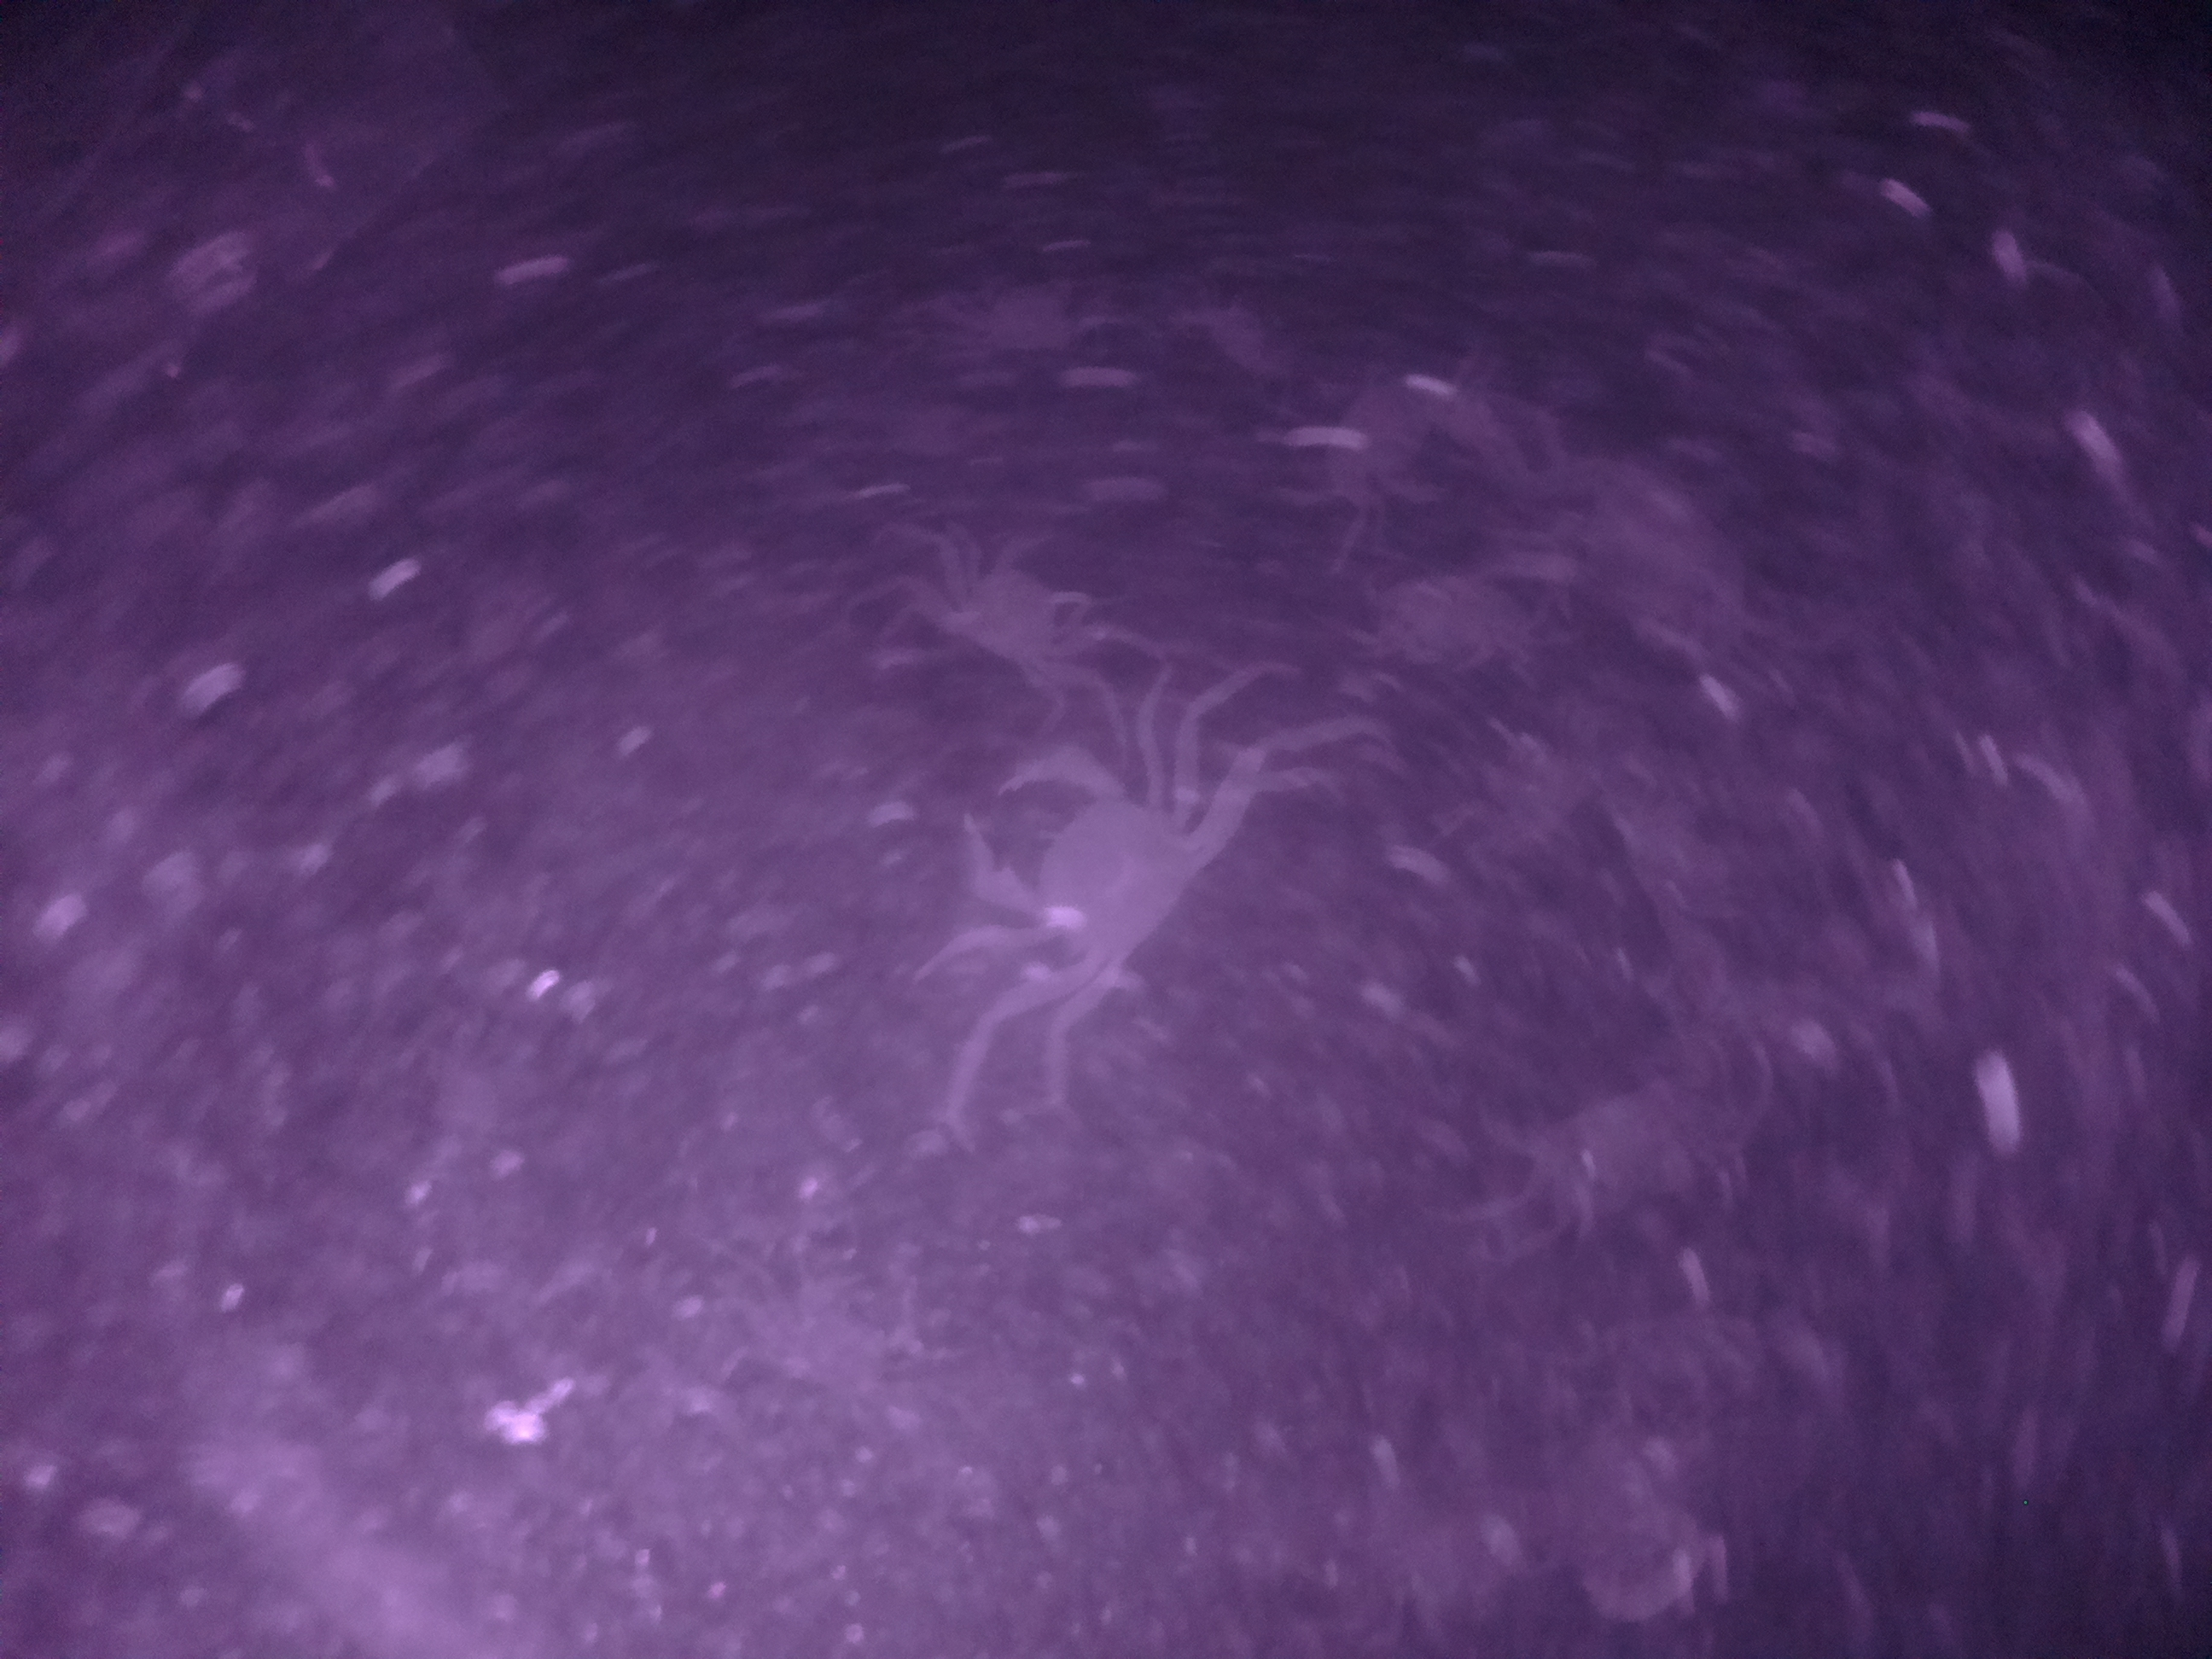Crab: (942, 727, 1247, 1028), (932, 516, 1139, 709)
